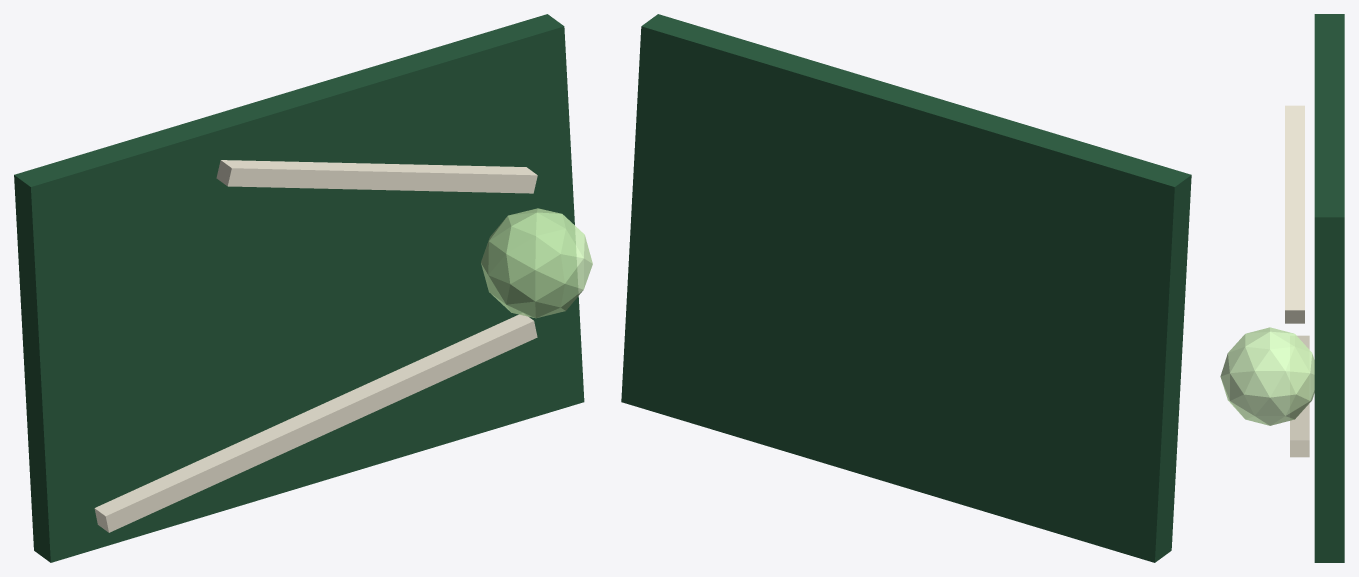
The model's file is 02_world_prop_polish.glb.
3 views of the same model, side by side, from view 1: azimuth 30°, elevation 25°; view 2: azimuth 150°, elevation 25°; view 3: azimuth 270°, elevation 25° (orthographic). The views are drawn at different scales.
Parts seen in each view (by area): view 1: object_overlay_plate, edge_wear_a, glow_socket, edge_wear_b; view 2: object_overlay_plate; view 3: object_overlay_plate, glow_socket, edge_wear_b, edge_wear_a.
Boxes of the visible parts, <box> form: object_overlay_plate: <box>14,14,584,562</box>; edge_wear_a: <box>94,313,537,532</box>; glow_socket: <box>481,208,592,318</box>; edge_wear_b: <box>216,160,537,193</box>; object_overlay_plate: <box>621,14,1191,562</box>; object_overlay_plate: <box>1314,14,1344,562</box>; glow_socket: <box>1220,327,1314,425</box>; edge_wear_b: <box>1285,105,1304,323</box>; edge_wear_a: <box>1290,335,1309,457</box>.
Size of the model in its own units: 1.14 by 0.8092 by 0.25.
